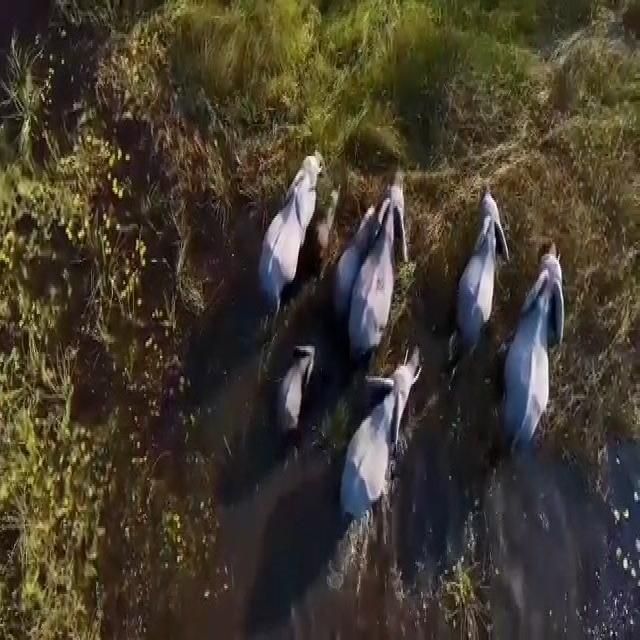Elephant: (338, 362, 434, 536), (254, 124, 330, 306), (344, 183, 422, 348), (510, 256, 574, 452), (450, 190, 511, 365), (282, 328, 316, 459)
